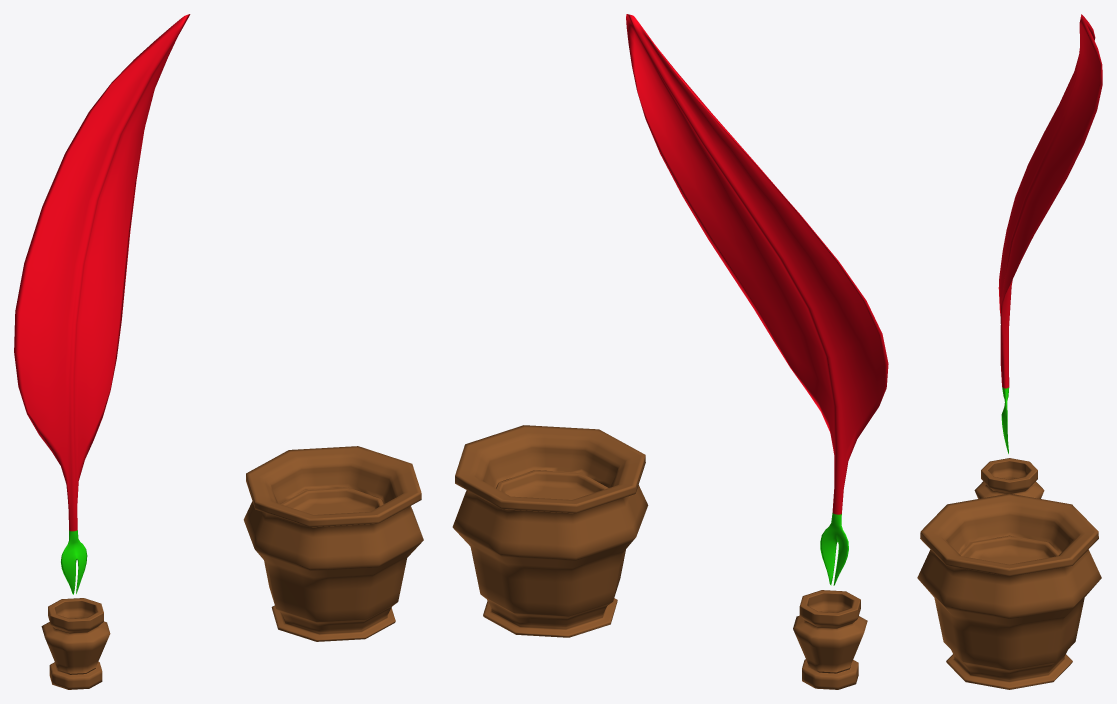
Rendered from Lobby_Ink&Quill_NoAnim_Texturized1.fbx.
3 renders of one model, left to right at view 1: azimuth 30°, elevation 25°; view 2: azimuth 150°, elevation 25°; view 3: azimuth 270°, elevation 25°, orthographic. The views are drawn at different scales.
Parts seen in each view (by area): view 1: Plane, Circle; view 2: Circle, Plane; view 3: Circle, Plane.
Boxes of the visible parts, box(x1,y1,x2,y2) form: Plane: box(14, 14, 190, 594); Circle: box(41, 446, 423, 689); Circle: box(452, 425, 867, 689); Plane: box(626, 14, 888, 585); Circle: box(917, 458, 1101, 689); Plane: box(998, 14, 1102, 453).
Bounding box in the file's own units: 67.81 × 99.29 × 28.07.
